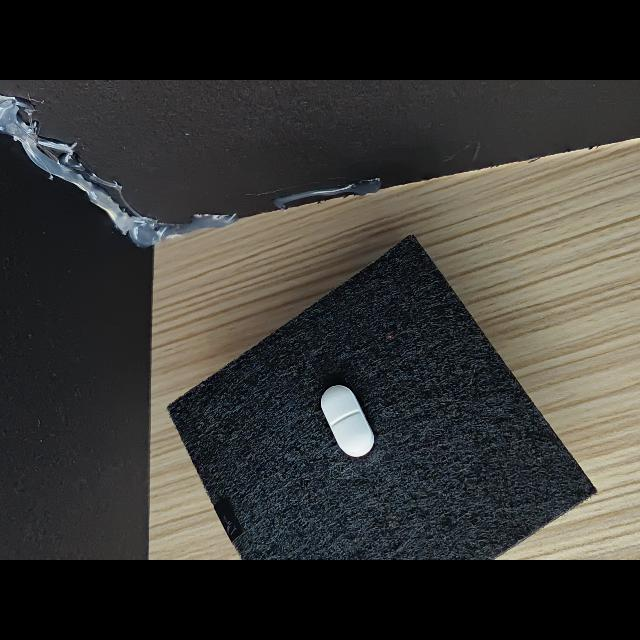Intact Pill: (321, 385, 374, 457)
